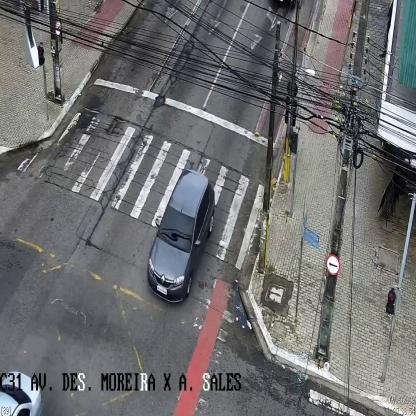car: (146, 168, 214, 302)
